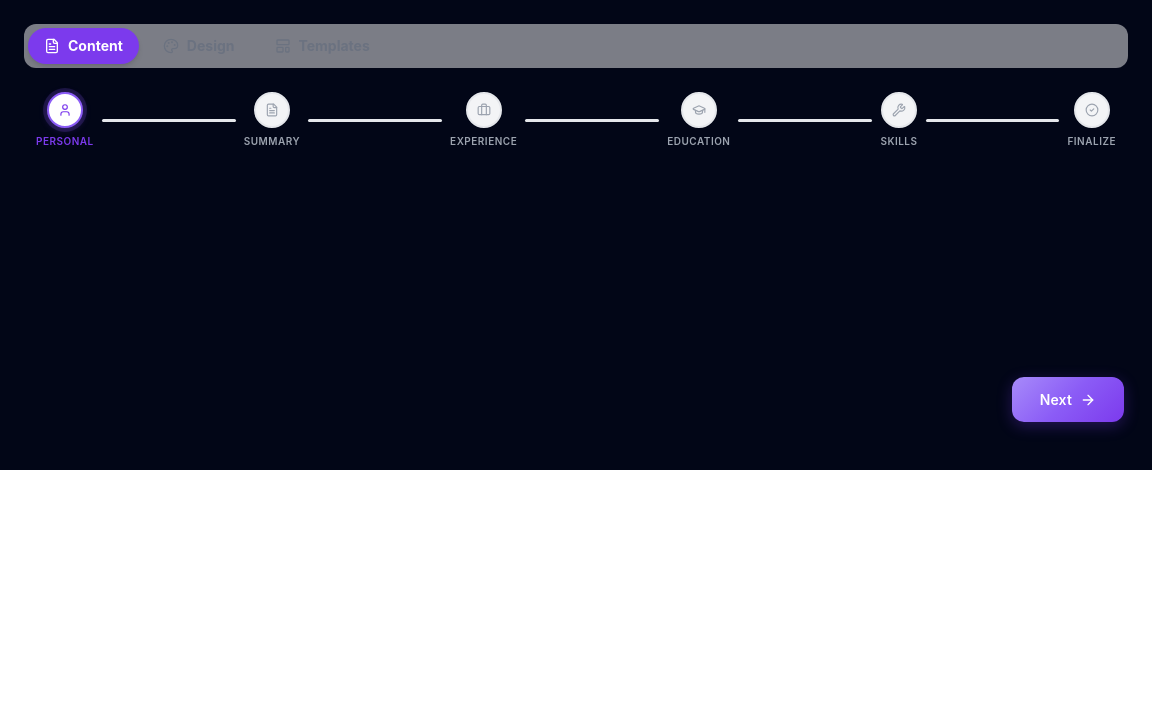
Test: CVForm Logic › applies aria-label to skill level buttons for accessibility
Navigate to Skills step
Click the text "Skills". click: click(899, 142)
box: [880,134,918,149]
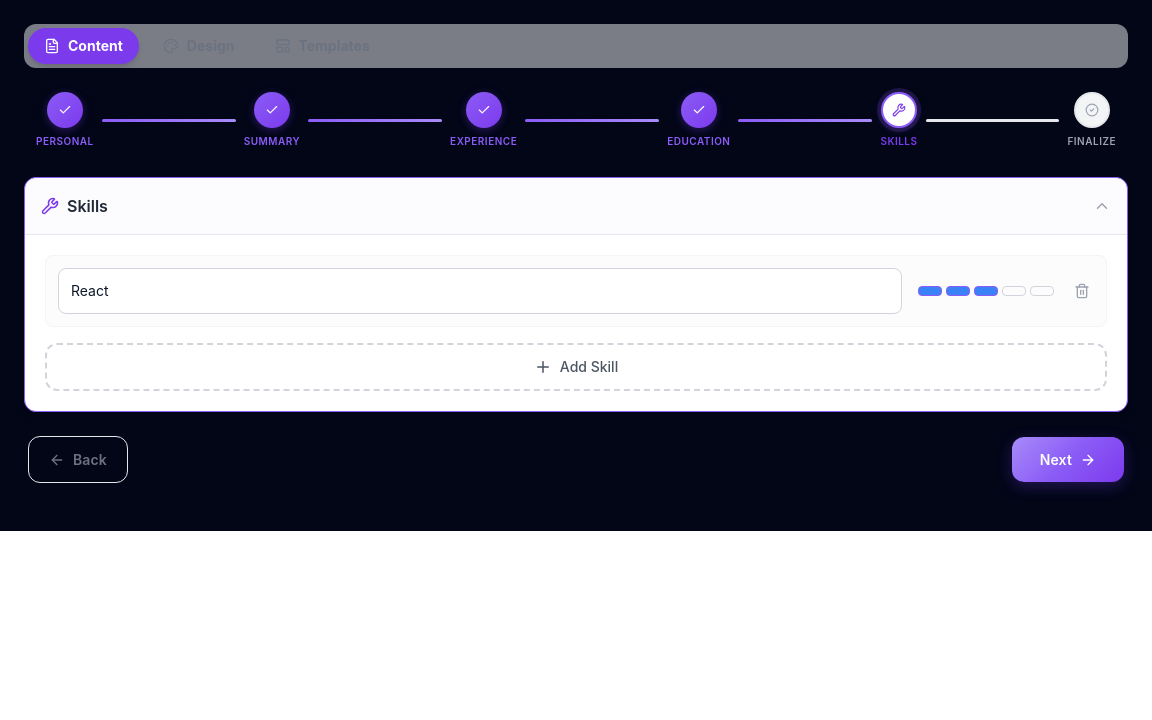
Check: the number of buttons named "Set skill level to" is 5, box [918,286,942,296]; [946,286,970,296]; [974,286,998,296]; [1002,286,1026,296]; [1030,286,1054,296]
